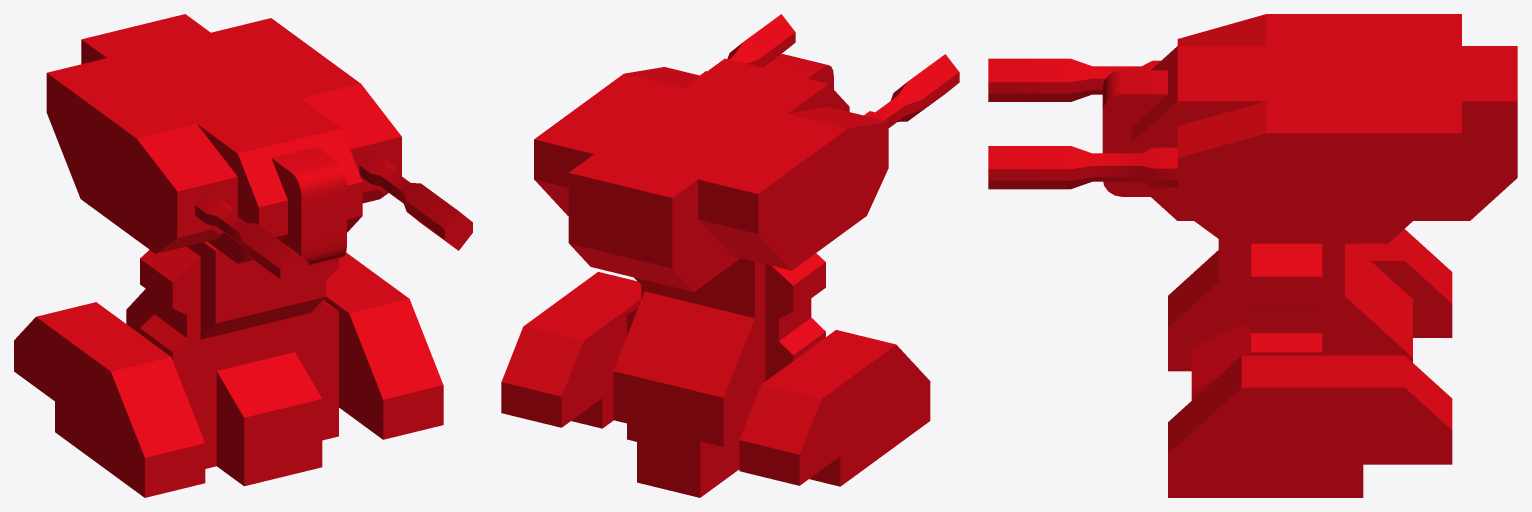
Rendered from defensive_point.fbx.
3 views of the same model, side by side, from view 1: azimuth 30°, elevation 25°; view 2: azimuth 150°, elevation 25°; view 3: azimuth 270°, elevation 25° (orthographic). The views are drawn at different scales.
Visible parts, largest first — view 1: Куб; view 2: Куб; view 3: Куб.
Part boxes in pixels (box(x1,y1,x2,y2)): Куб: box(14, 14, 472, 497); Куб: box(501, 14, 959, 497); Куб: box(988, 14, 1517, 497).
Bounding box in the file's own units: 180 × 196 × 254.
